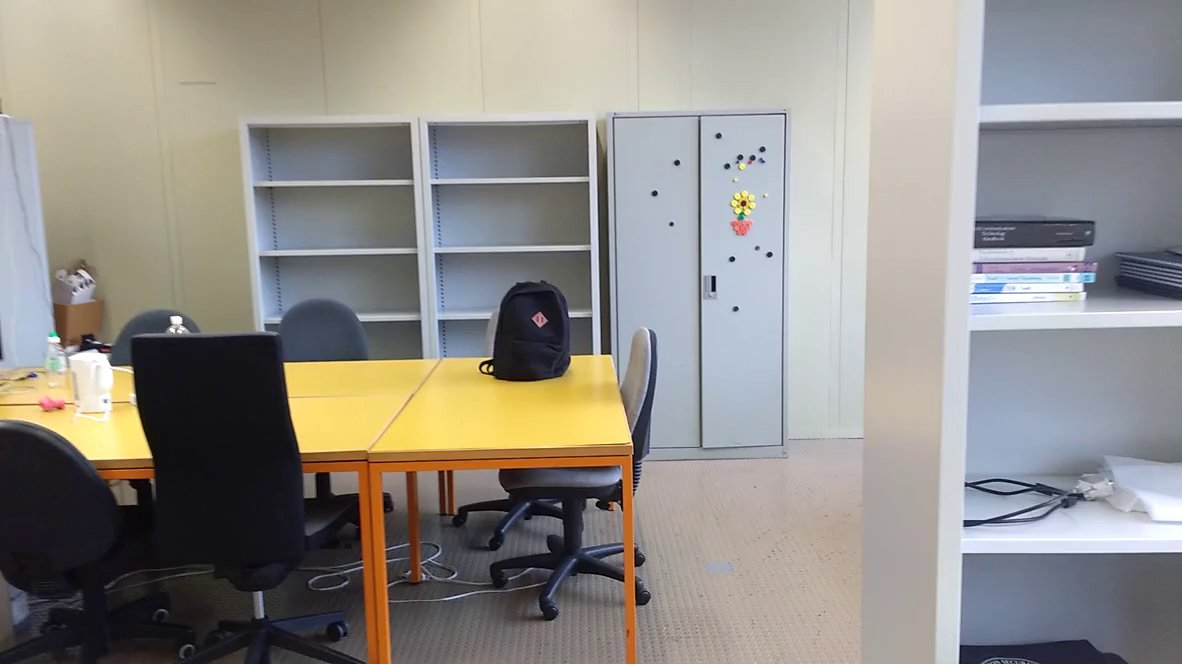bag: (474, 275, 578, 388)
chair: (485, 321, 678, 621), (251, 288, 390, 380), (108, 310, 223, 383)
